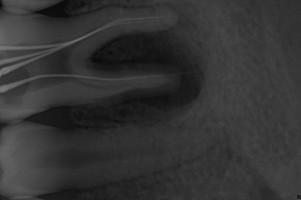Dental Caries: (92, 30, 206, 112)
